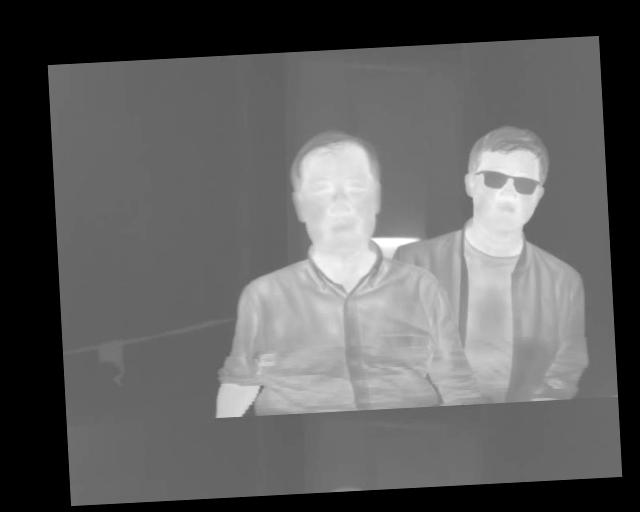face: (286, 126, 386, 260), (460, 122, 552, 235)
